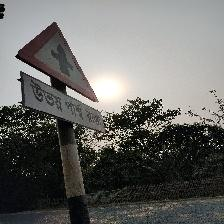Crossroad: (14, 19, 121, 136)
